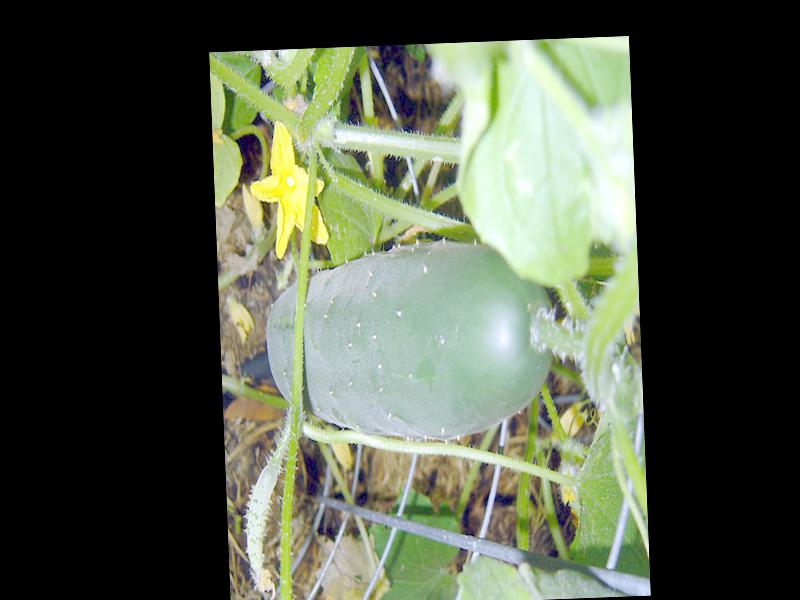Cucumber: (264, 238, 556, 449)
